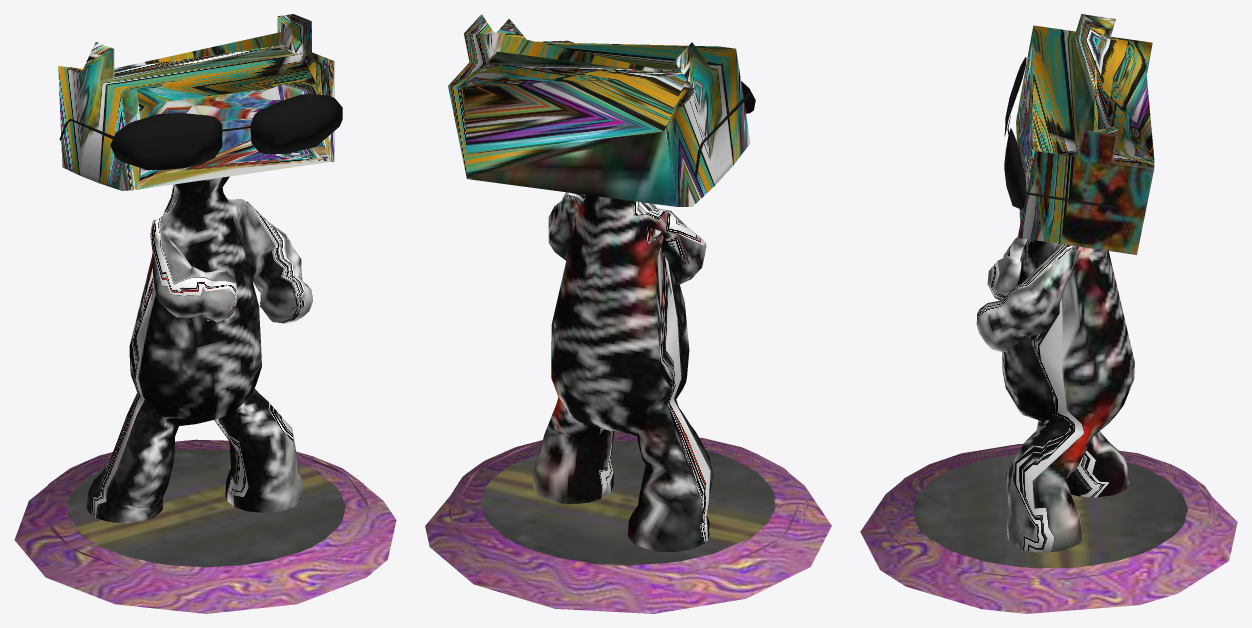
The picture shows the model from 3 angles, left to right: view 1: azimuth 30°, elevation 25°; view 2: azimuth 150°, elevation 25°; view 3: azimuth 270°, elevation 25°; orthographic projection. The views are drawn at different scales.
Bounding box in the file's own units: 1.44 × 2.03 × 1.44.
Materials: 5 (4 with a texture image).
